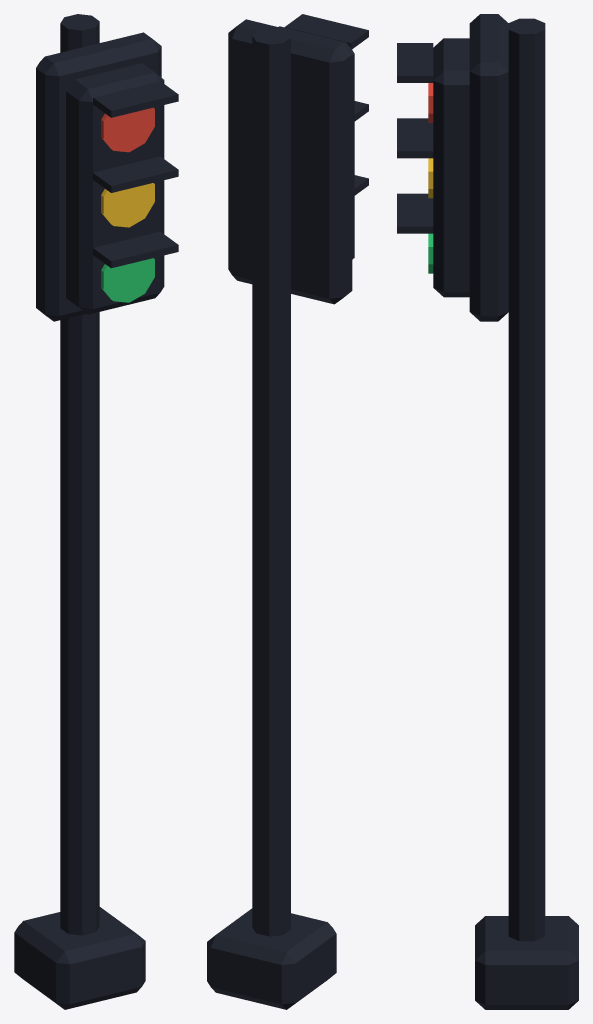
Rendered from traffic-light.glb.
3 views of the same model, side by side, from view 1: azimuth 30°, elevation 25°; view 2: azimuth 150°, elevation 25°; view 3: azimuth 270°, elevation 25° (orthographic).
Parts seen in each view (by area): view 1: traffic_light; view 2: traffic_light; view 3: traffic_light.
Part boxes in pixels (x1,y1,x2,y2): traffic_light: (14,14,178,1009); traffic_light: (207,14,368,1009); traffic_light: (397,14,578,1009).
Size of the model in its own units: 0.52 by 4.1 by 0.7.
